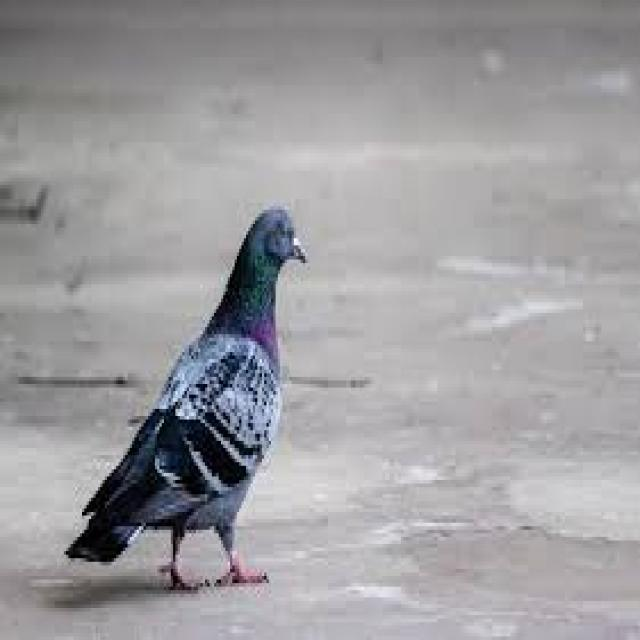pigeon: (66, 174, 312, 606)
